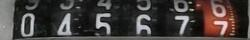digits: (135, 14, 152, 38), (58, 13, 71, 40), (96, 13, 110, 38), (20, 12, 34, 37), (174, 15, 189, 37), (213, 20, 228, 39)
